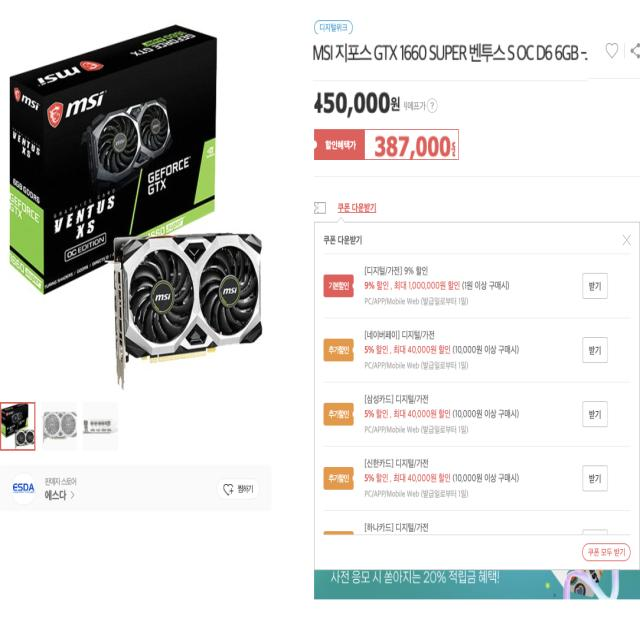product_discount_price: (369, 133, 455, 159)
product_name: (313, 34, 587, 82)
product_original_price: (317, 91, 403, 122)
